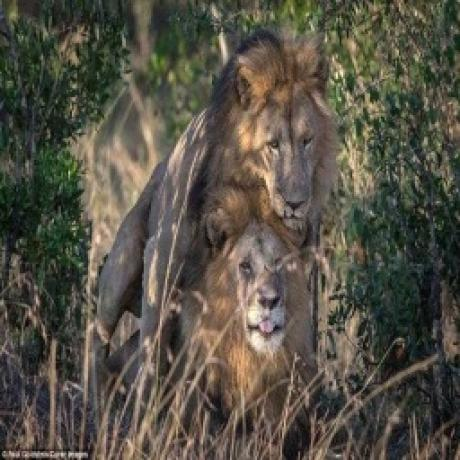Lion: (96, 28, 338, 346), (189, 188, 315, 398)
